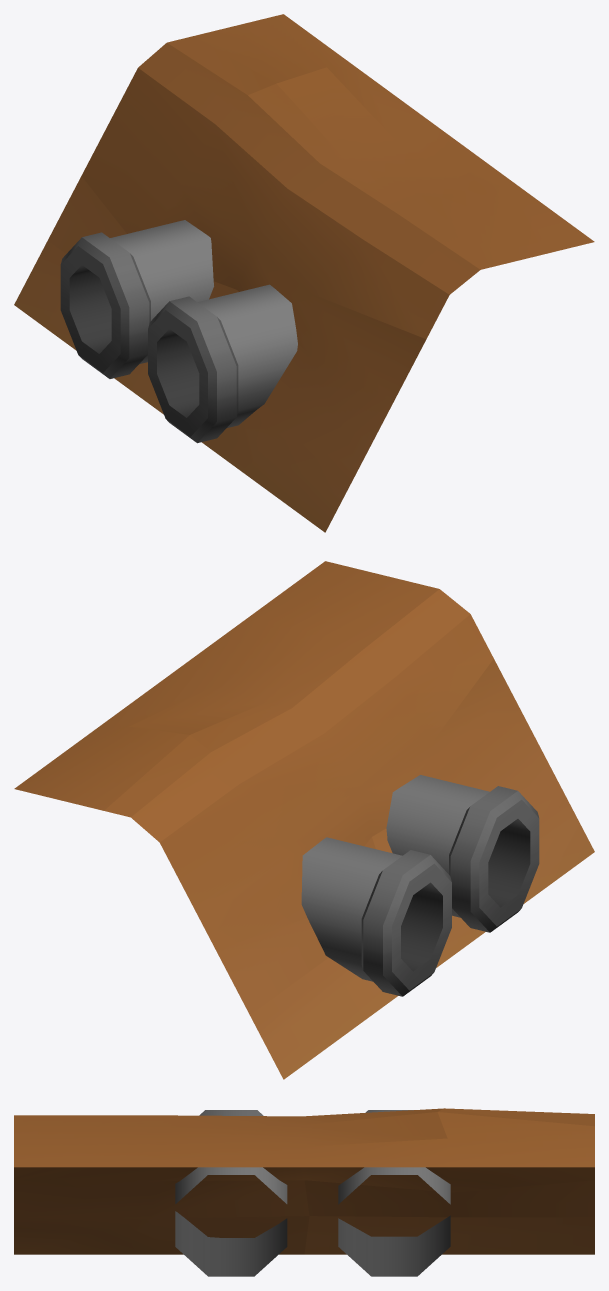
The model's file is cGround_C_Side_3__.fbx.
3 renders of one model, top to bottom at view 1: azimuth 30°, elevation 25°; view 2: azimuth 150°, elevation 25°; view 3: azimuth 270°, elevation 25°, orthographic. The views are drawn at different scales.
Parts seen in each view (by area): view 1: cGround_C_Side_3; view 2: cGround_C_Side_3; view 3: cGround_C_Side_3.
Boxes of the visible parts, x1=… form: cGround_C_Side_3: x1=14, y1=14, x2=594, y2=532; cGround_C_Side_3: x1=14, y1=561, x2=594, y2=1079; cGround_C_Side_3: x1=14, y1=1108, x2=594, y2=1276.
Bounding box in the file's own units: 446 × 340 × 800.
